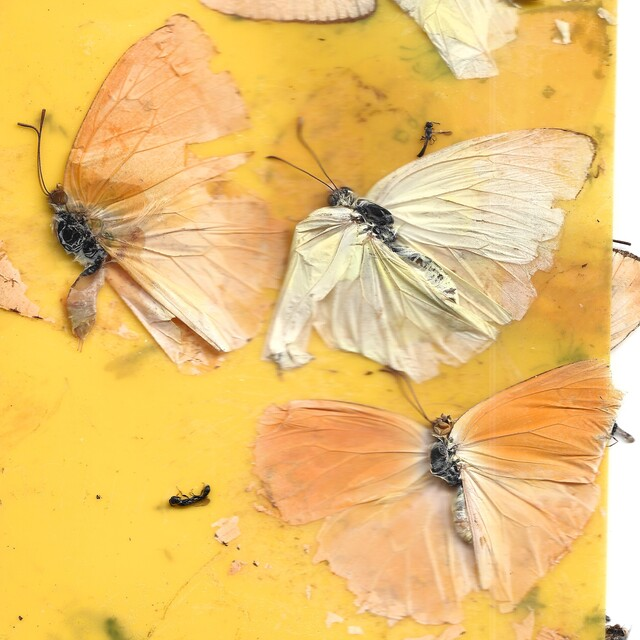Lepidoptera: (253, 358, 623, 625), (17, 15, 289, 375), (265, 117, 600, 384)
